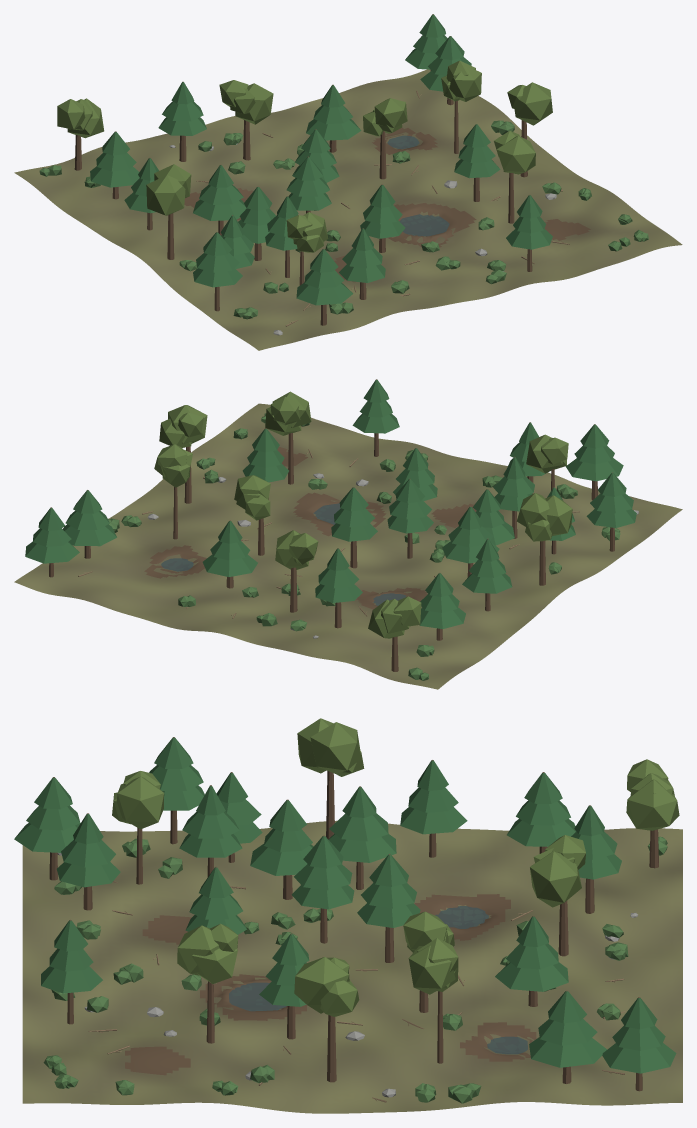
File: forest.glb
The picture shows the model from 3 angles, top to bottom: view 1: azimuth 30°, elevation 25°; view 2: azimuth 150°, elevation 25°; view 3: azimuth 270°, elevation 25°; orthographic projection. The views are drawn at different scales.
Parts seen in each view (by area): view 1: Terrain, Mud_1, Tree_11, Tree_10, Tree_12, Tree_17, Tree_03, Tree_06, Tree_04, Tree_21, Tree_24, Tree_15 (+19 smaller); view 2: Terrain, Tree_11, Tree_10, Tree_16, Tree_17, Tree_24, Tree_04, Tree_08, Tree_01, Tree_25, Tree_06, Tree_19 (+18 smaller); view 3: Terrain, Tree_16, Tree_02, Tree_11, Tree_12, Tree_03, Tree_08, Tree_04, Tree_25, Tree_19, Tree_24, Tree_01 (+23 smaller).
Part boxes in pixels (x1,y1,x2,y2): Terrain: (14, 69, 682, 350); Mud_1: (387, 203, 476, 247); Tree_11: (146, 164, 191, 259); Tree_10: (296, 248, 353, 325); Tree_12: (219, 80, 273, 160); Tree_17: (193, 232, 242, 311); Tree_03: (193, 164, 246, 235); Tree_06: (90, 131, 139, 199); Tree_04: (306, 84, 361, 152); Tree_21: (158, 81, 206, 161); Tree_24: (57, 98, 104, 170); Tree_15: (454, 124, 500, 201); Terrain: (14, 403, 682, 689); Tree_11: (516, 493, 572, 585); Tree_10: (565, 424, 623, 500); Tree_16: (63, 490, 116, 558); Tree_17: (586, 472, 636, 551); Tree_24: (368, 596, 421, 671); Tree_04: (202, 520, 257, 588); Tree_08: (25, 507, 79, 577); Tree_01: (331, 487, 377, 568); Tree_25: (387, 479, 433, 558); Tree_06: (419, 572, 465, 640); Tree_19: (265, 391, 311, 484); Terrain: (22, 820, 682, 1113); Tree_16: (529, 990, 607, 1083); Tree_02: (294, 957, 359, 1082); Tree_11: (297, 718, 364, 839); Tree_12: (530, 835, 585, 956); Tree_03: (328, 786, 396, 889); Tree_08: (602, 997, 676, 1091); Tree_04: (495, 916, 568, 1006); Tree_25: (291, 835, 354, 943); Tree_19: (177, 923, 238, 1043); Tree_24: (626, 759, 679, 868); Tree_01: (357, 854, 420, 962).
Bounding box in the file's own units: 30.83 × 6.96 × 30.39.
